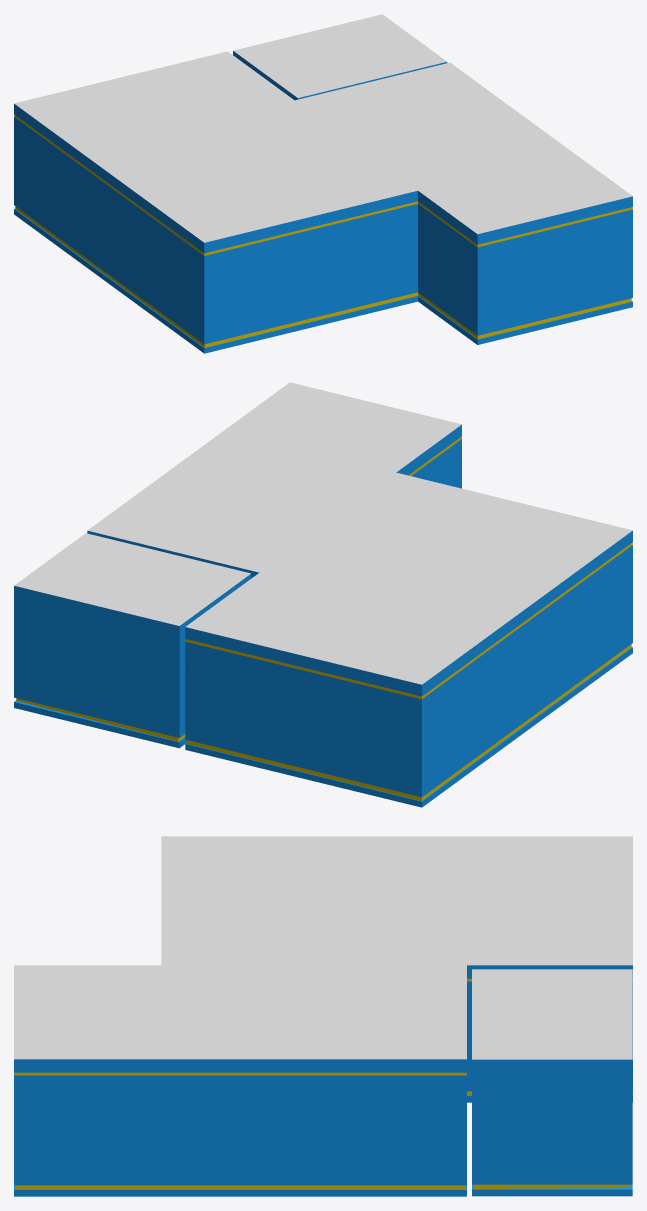
The model's file is Arcade_room.fbx.
3 renders of one model, top to bottom at view 1: azimuth 30°, elevation 25°; view 2: azimuth 150°, elevation 25°; view 3: azimuth 270°, elevation 25°, orthographic. The views are drawn at different scales.
Parts seen in each view (by area): view 1: Room; view 2: Room; view 3: Room.
Boxes of the visible parts, <box> form: Room: <box>14,14,632,353</box>; Room: <box>14,382,632,807</box>; Room: <box>14,836,632,1196</box>.
Bounding box in the file's own units: 3807 × 1093 × 4463.
